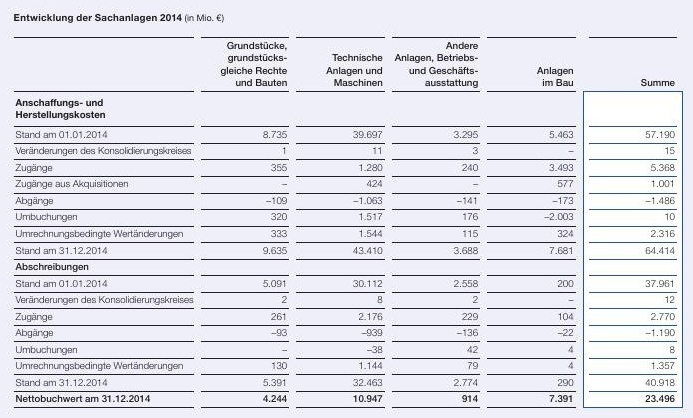table: (0, 0, 693, 418)
